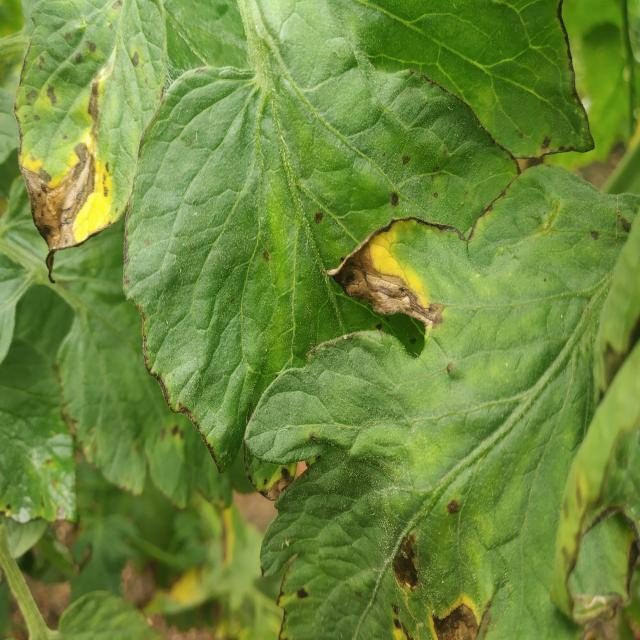Tomato mosaic virus leaf: (121, 123, 526, 503), (254, 462, 497, 640)
